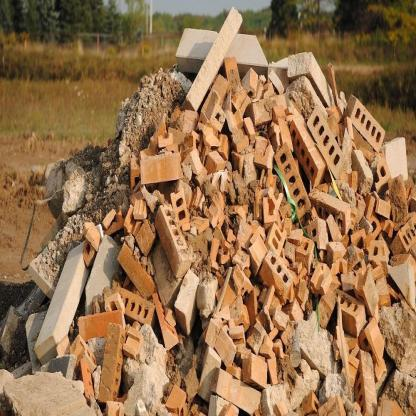brick: (1, 9, 415, 415)
